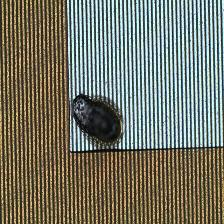PIQ PARTICLE: (61, 84, 137, 160)
